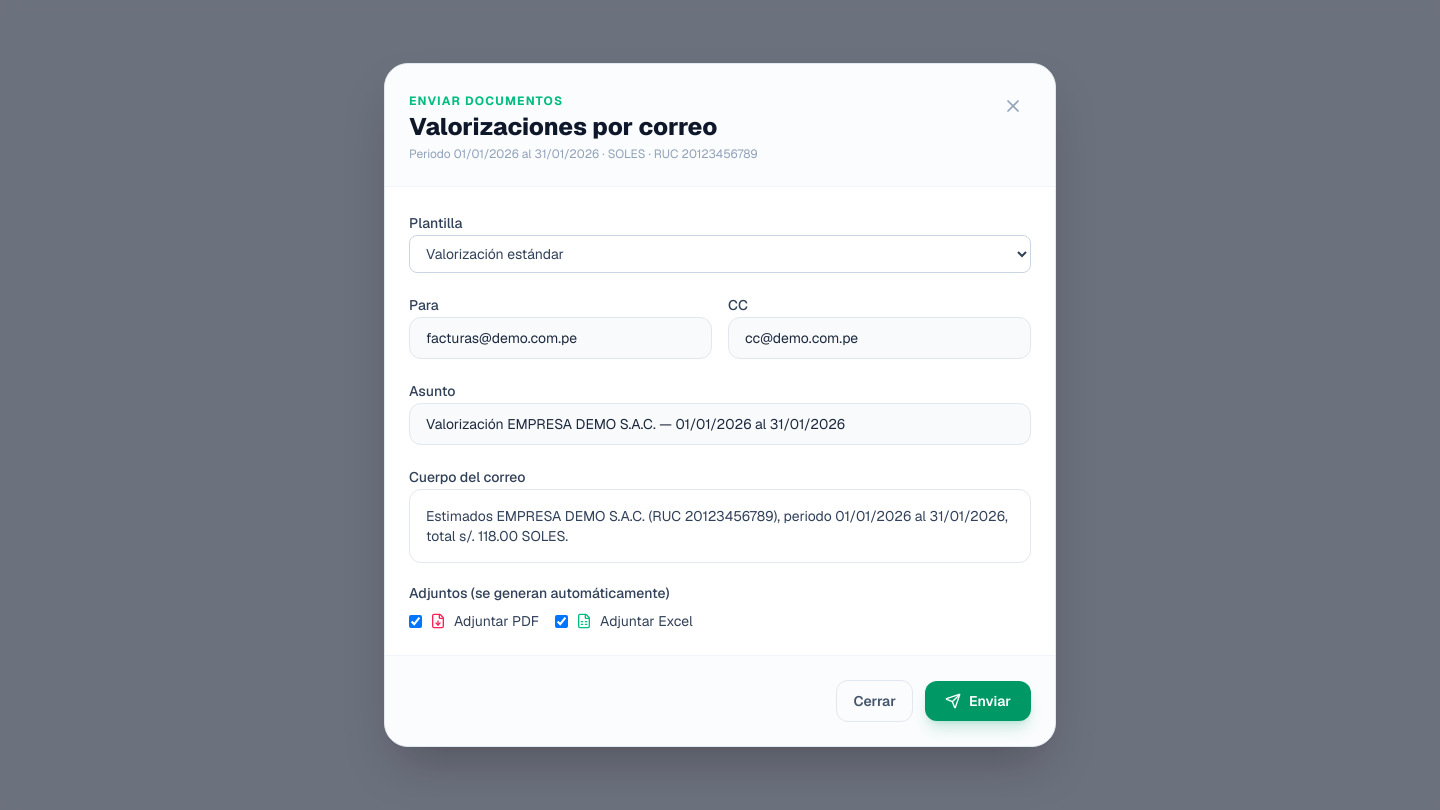
EnviarValoracionesModal › passes the empresa scope through to the send FormData so attachments stay row-scoped (U6)
The width and height of the screenshot is (1440, 810).
Expected: the field labelled "Asunto" is not empty, [409,403,1031,445]
Click the button "Enviar".
click(978, 701)  # box [925,681,1031,721]
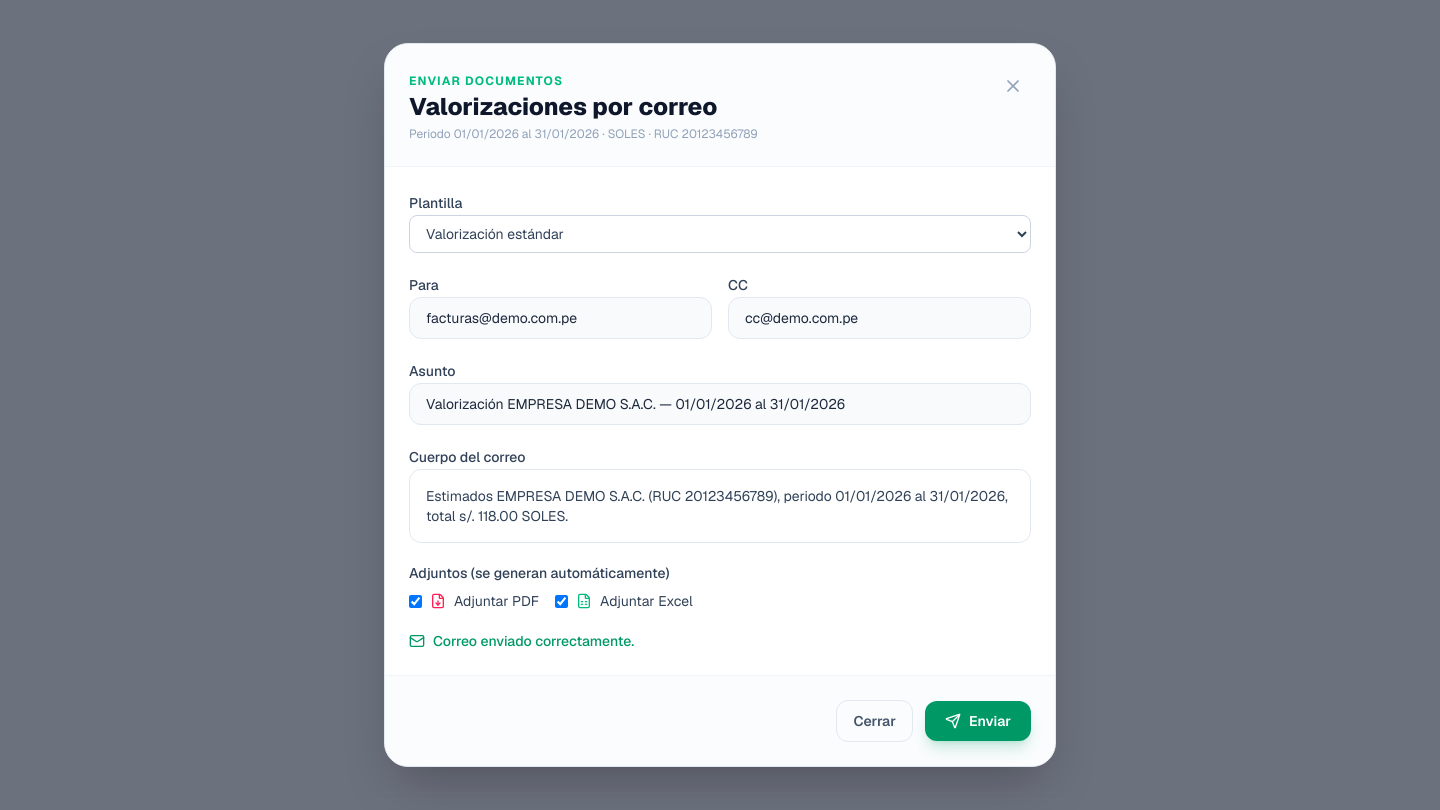
Now the text "Correo enviado correctamente." is shown, box [409,632,634,650]
